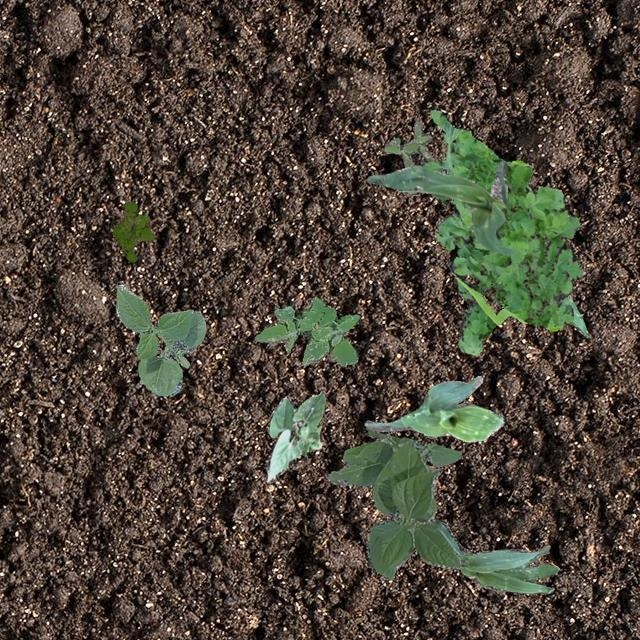crop: (326, 428, 460, 578), (364, 160, 514, 254), (116, 284, 206, 396), (433, 520, 558, 594), (363, 374, 502, 440), (264, 392, 324, 482), (560, 292, 588, 336)
weed: (420, 109, 584, 354), (254, 296, 358, 364), (111, 200, 152, 260), (384, 120, 431, 167)
